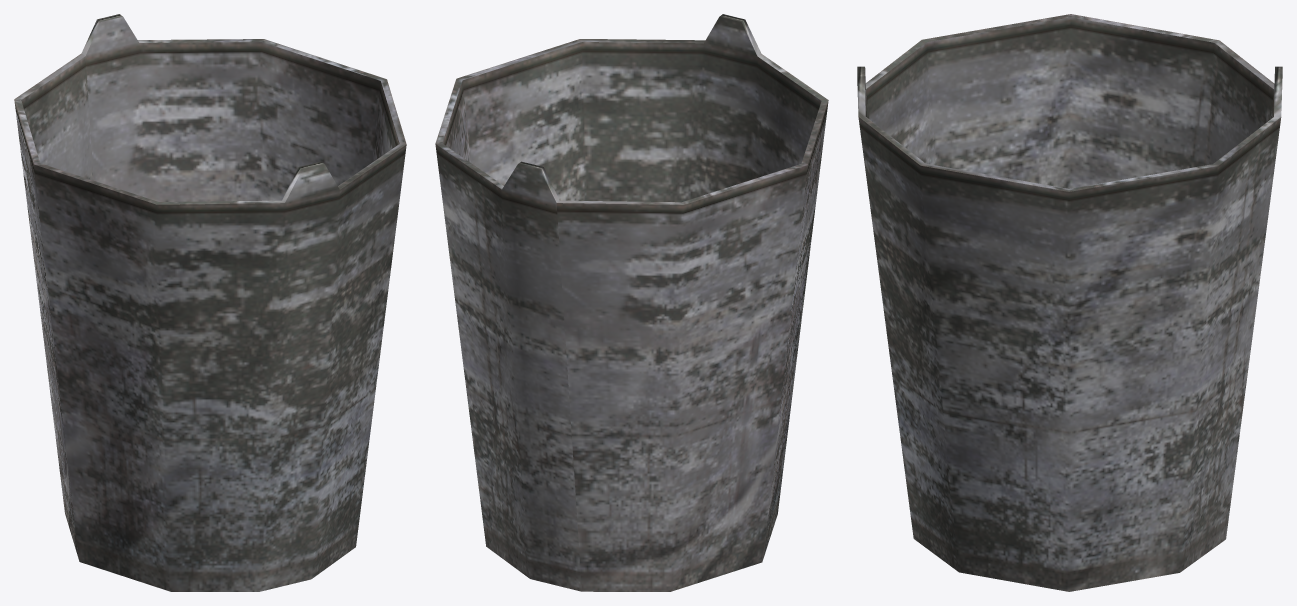
Rendered from Bucket1_LOD2.fbx.
3 renders of one model, left to right at view 1: azimuth 30°, elevation 25°; view 2: azimuth 150°, elevation 25°; view 3: azimuth 270°, elevation 25°, orthographic. The views are drawn at different scales.
Visible parts, largest first — view 1: polySurface278; view 2: polySurface278; view 3: polySurface278.
Boxes of the visible parts, left/top/right/bottom form: polySurface278: left=14, top=14, right=406, bottom=591; polySurface278: left=435, top=14, right=828, bottom=591; polySurface278: left=857, top=14, right=1282, bottom=591.
Bounding box in the file's own units: 0.6638 × 0.7895 × 0.6706.
Materials: 1 (1 with a texture image).
